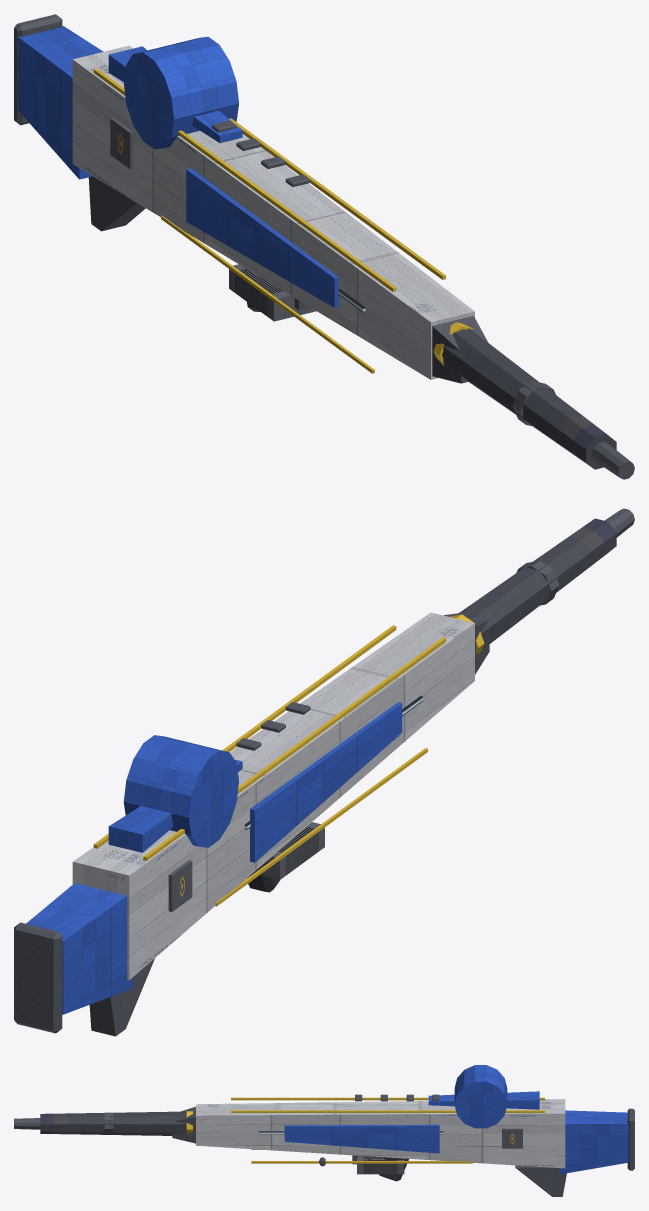
File: auc_lmg.obj
3 renders of one model, top to bottom at view 1: azimuth 30°, elevation 25°; view 2: azimuth 150°, elevation 25°; view 3: azimuth 270°, elevation 25°, orthographic. The views are drawn at different scales.
Parts seen in each view (by area): view 1: auc_lmg; view 2: auc_lmg; view 3: auc_lmg.
Part boxes in pixels (left/top/right/bottom): auc_lmg: left=14, top=14, right=634, bottom=479; auc_lmg: left=14, top=508, right=634, bottom=1036; auc_lmg: left=14, top=1065, right=634, bottom=1196.
Size of the model in its own units: 0.0825 by 0.2517 by 1.18.
1 material, 1 textured.
